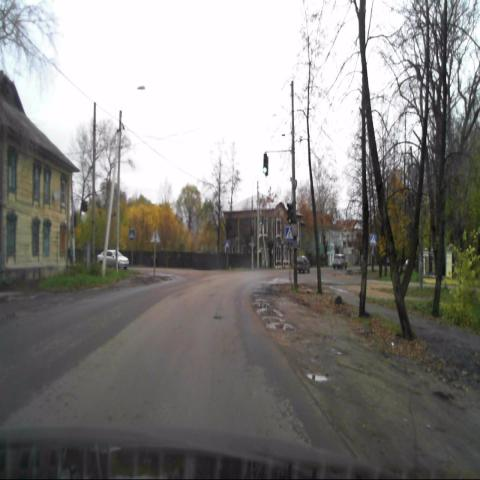5_19_1: (286, 226, 294, 241)
